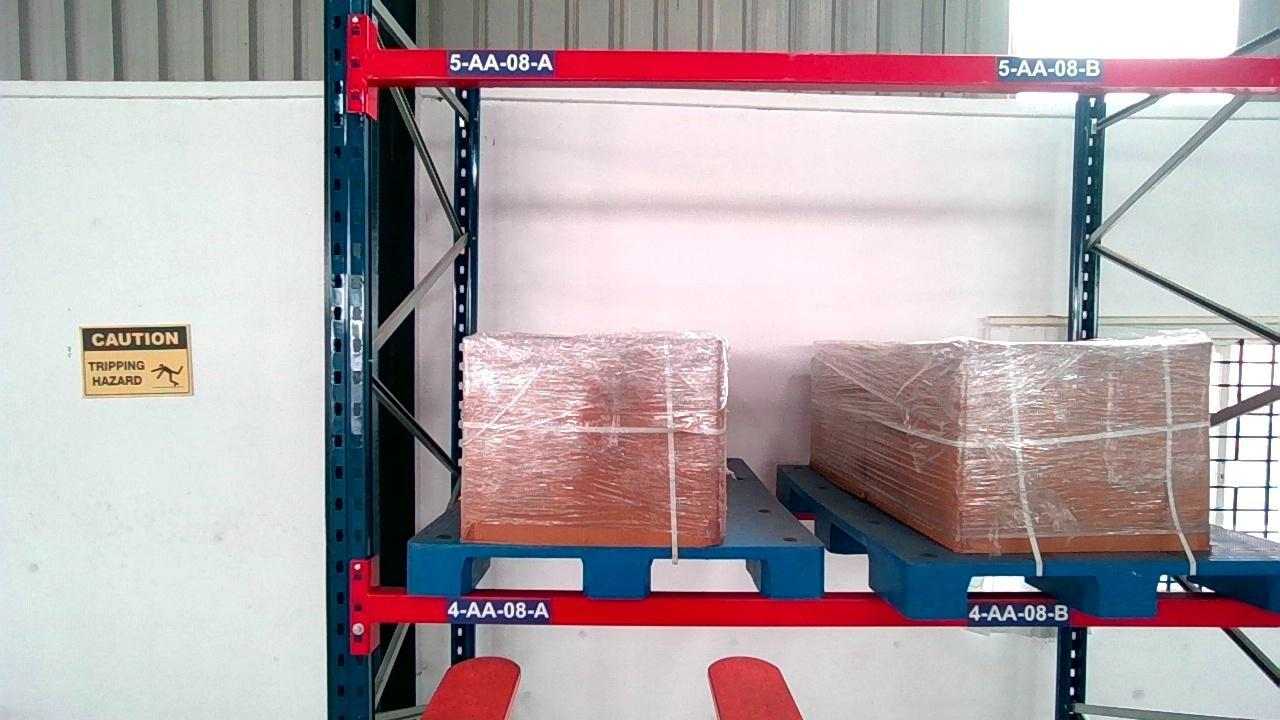h_rack: (372, 48, 1277, 86), (370, 594, 1279, 625)
small_pallet: (405, 542, 821, 597), (913, 562, 1280, 616)
